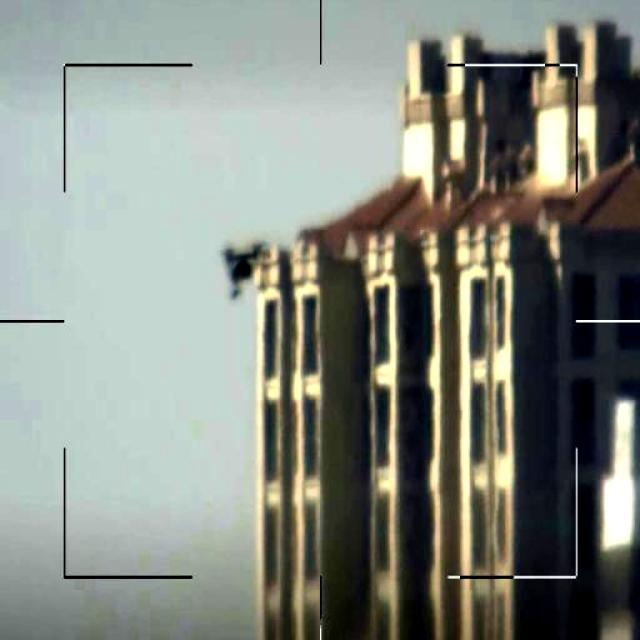bird: (216, 236, 270, 306)
